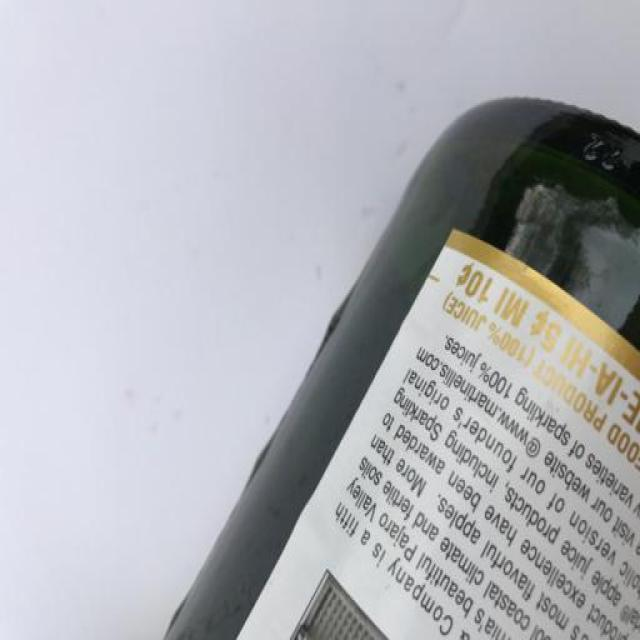Glass: (69, 54, 640, 640)
